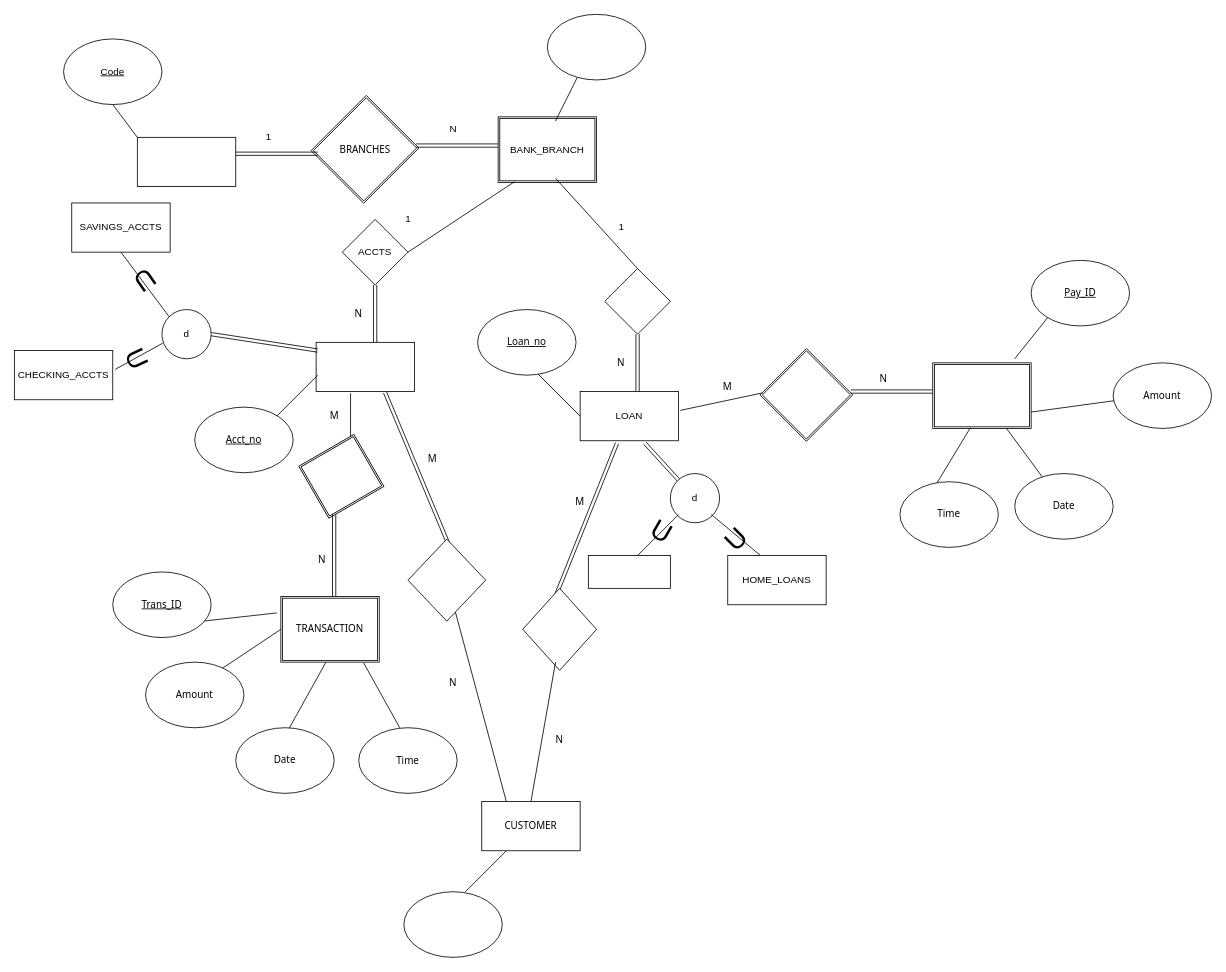
The diagram is 1226 pixels wide and 972 high, and some of its shapes have lost their labels. The centre of each missing label's shape, as x and y in pixels:
"ACCOUNT" belongs at point 365,367.
"ACCT_CUST" belongs at point 446,579.
"ACCT_TRANS" belongs at point 341,475.
"BANK" belongs at point 186,162.
"Branch_no" belongs at point 596,47.
"CAR_LOANS" belongs at point 629,571.
"LOAN_CUST" belongs at point 559,629.
"LOAN_PAY" belongs at point 806,394.
"LOANS" belongs at point 637,301.
"PAYMENT" belongs at point 981,395.
"SSN" belongs at point 452,924.
